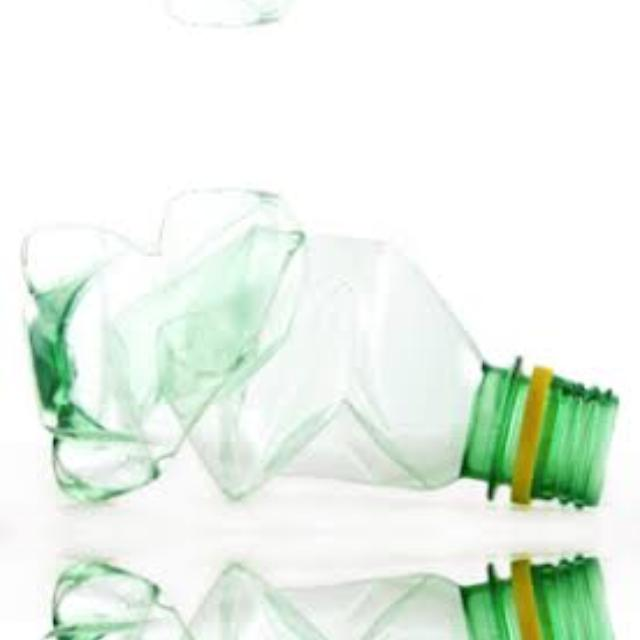Plastic: (15, 132, 629, 514), (15, 548, 629, 640), (15, 0, 629, 81)
